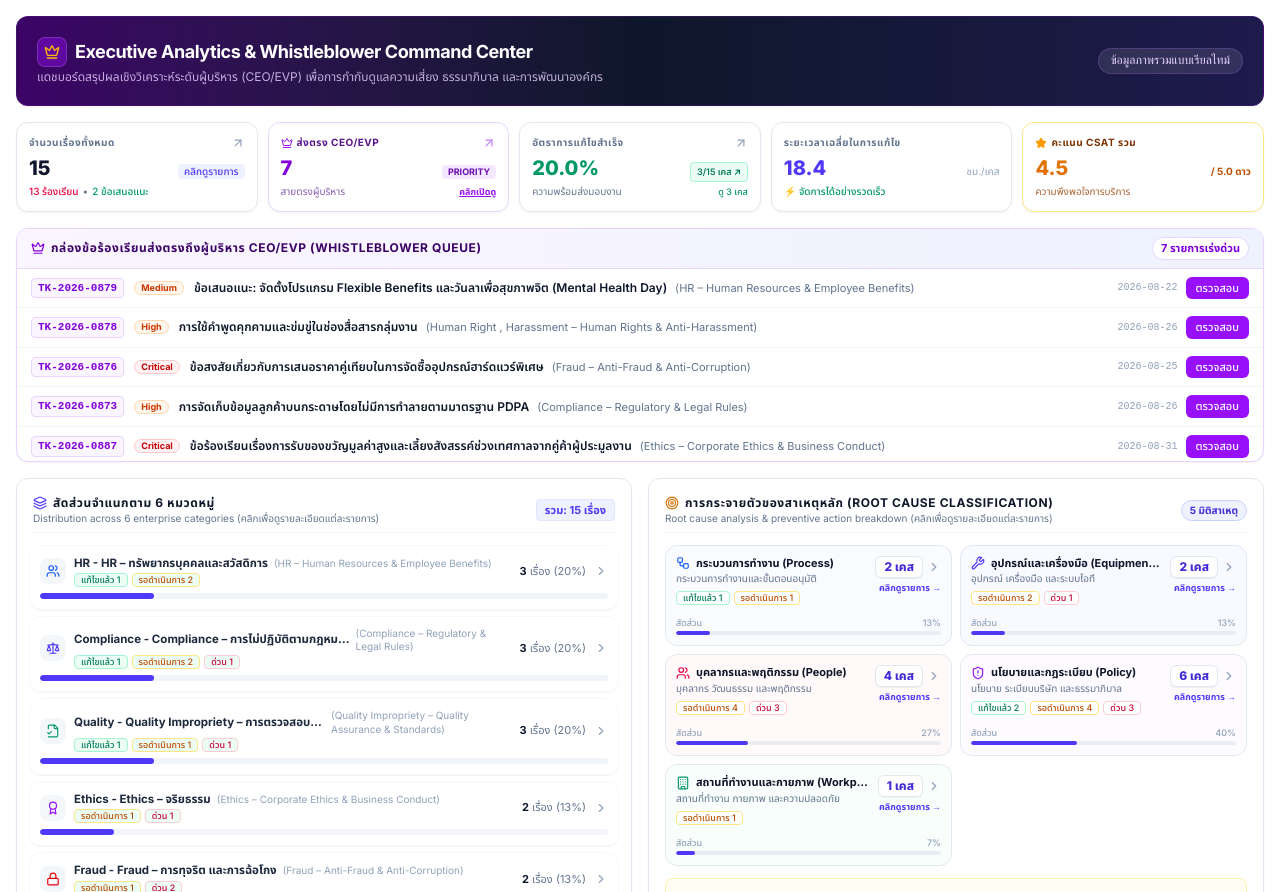
it: ExecutiveDashboard › drill-down modals › opens the category modal with that category only
Step 1. Click the button "HR - HR" → (171, 562), box [29,544,619,610]
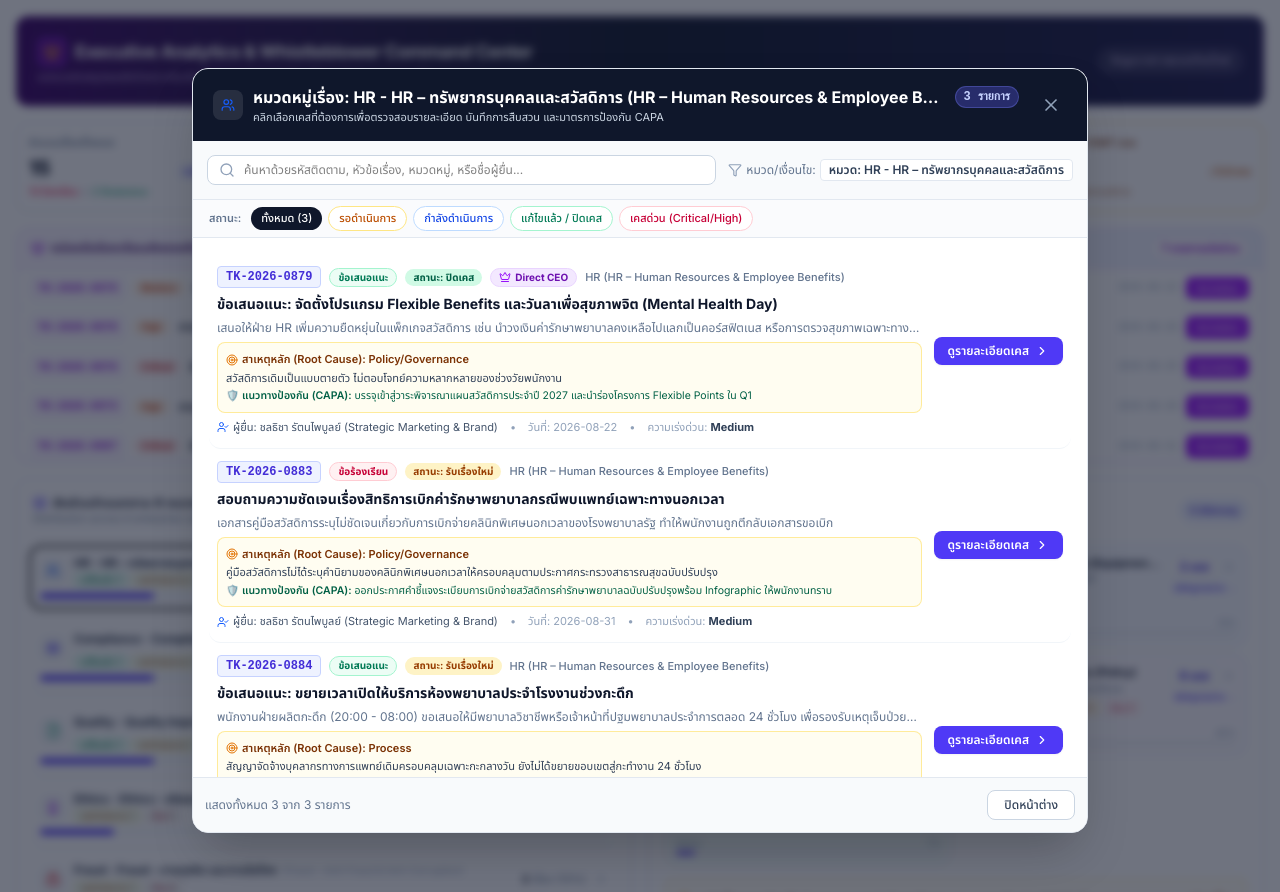
Now the heading shows "หมวดหมู่เรื่อง: HR -", box [253,86,983,106]
